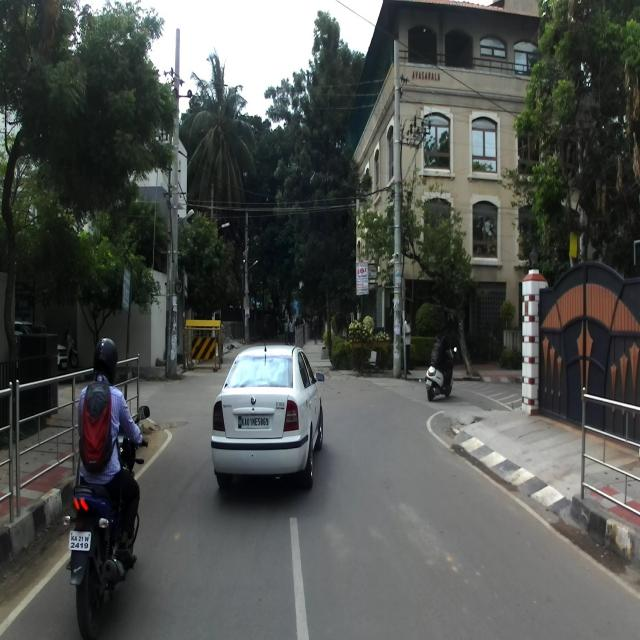Car_Skoda: (211, 340, 324, 491)
motorcycle_bajaj: (61, 404, 150, 638)
